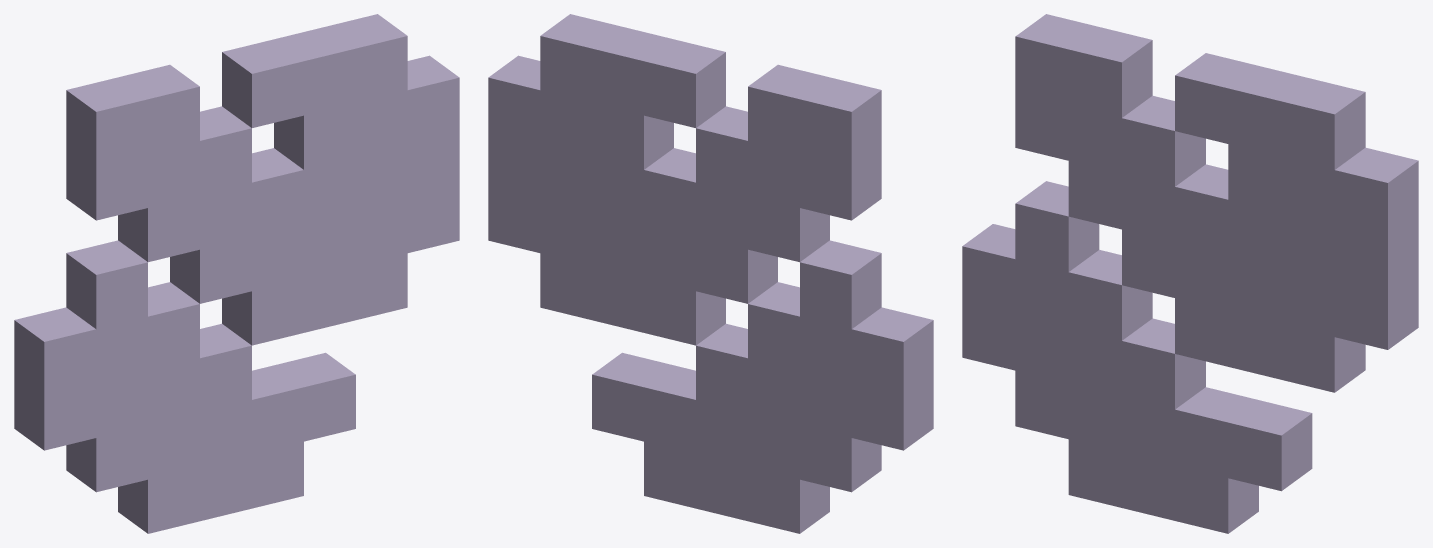
Rendered from Hauberk-Grey.vox.obj.
3 renders of one model, left to right at view 1: azimuth 30°, elevation 25°; view 2: azimuth 150°, elevation 25°; view 3: azimuth 330°, elevation 25°, orthographic. The views are drawn at different scales.
Size of the model in its own units: 0.8 by 0.8 by 0.1.
1 material, 1 textured.
